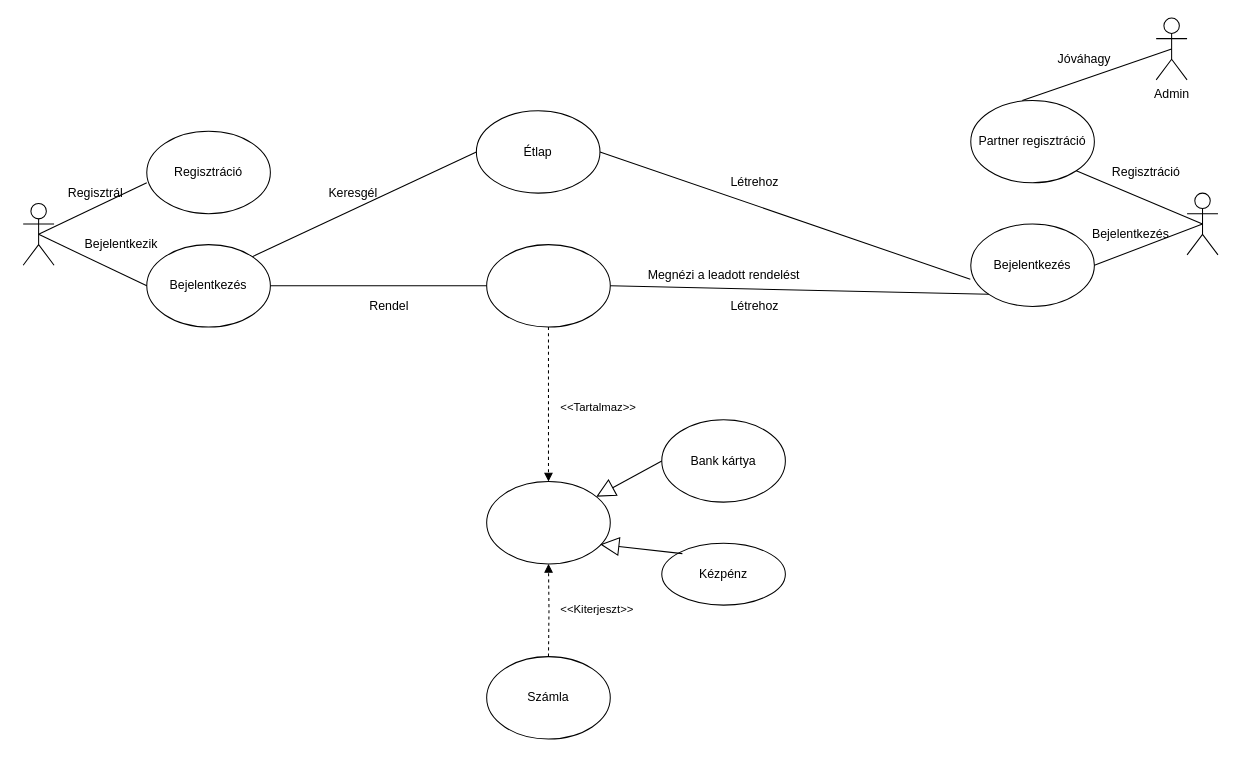
Some shapes in this 1240 by 757 pixel diagram are drawn without their labels. Each missing label, with the centre of its shape:
Fizetés: (548,522)
Partner: (1202,223)
Vásárló: (38,233)
Étel: (548,285)
